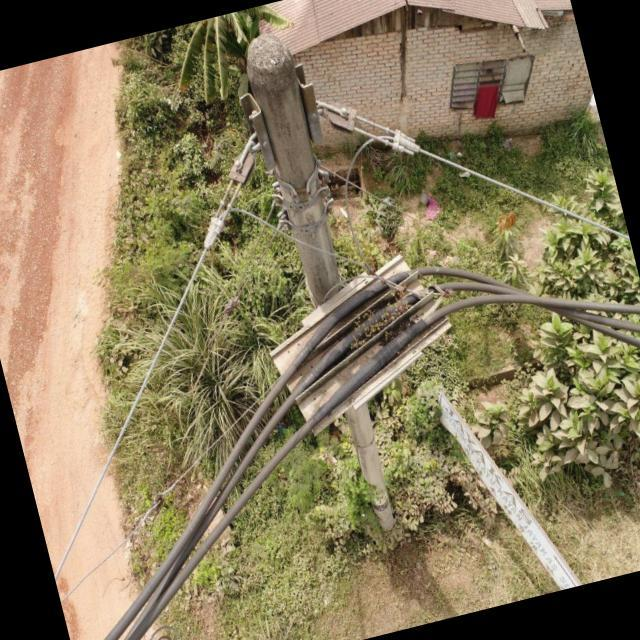critical vegetation: (316, 266, 434, 376)
